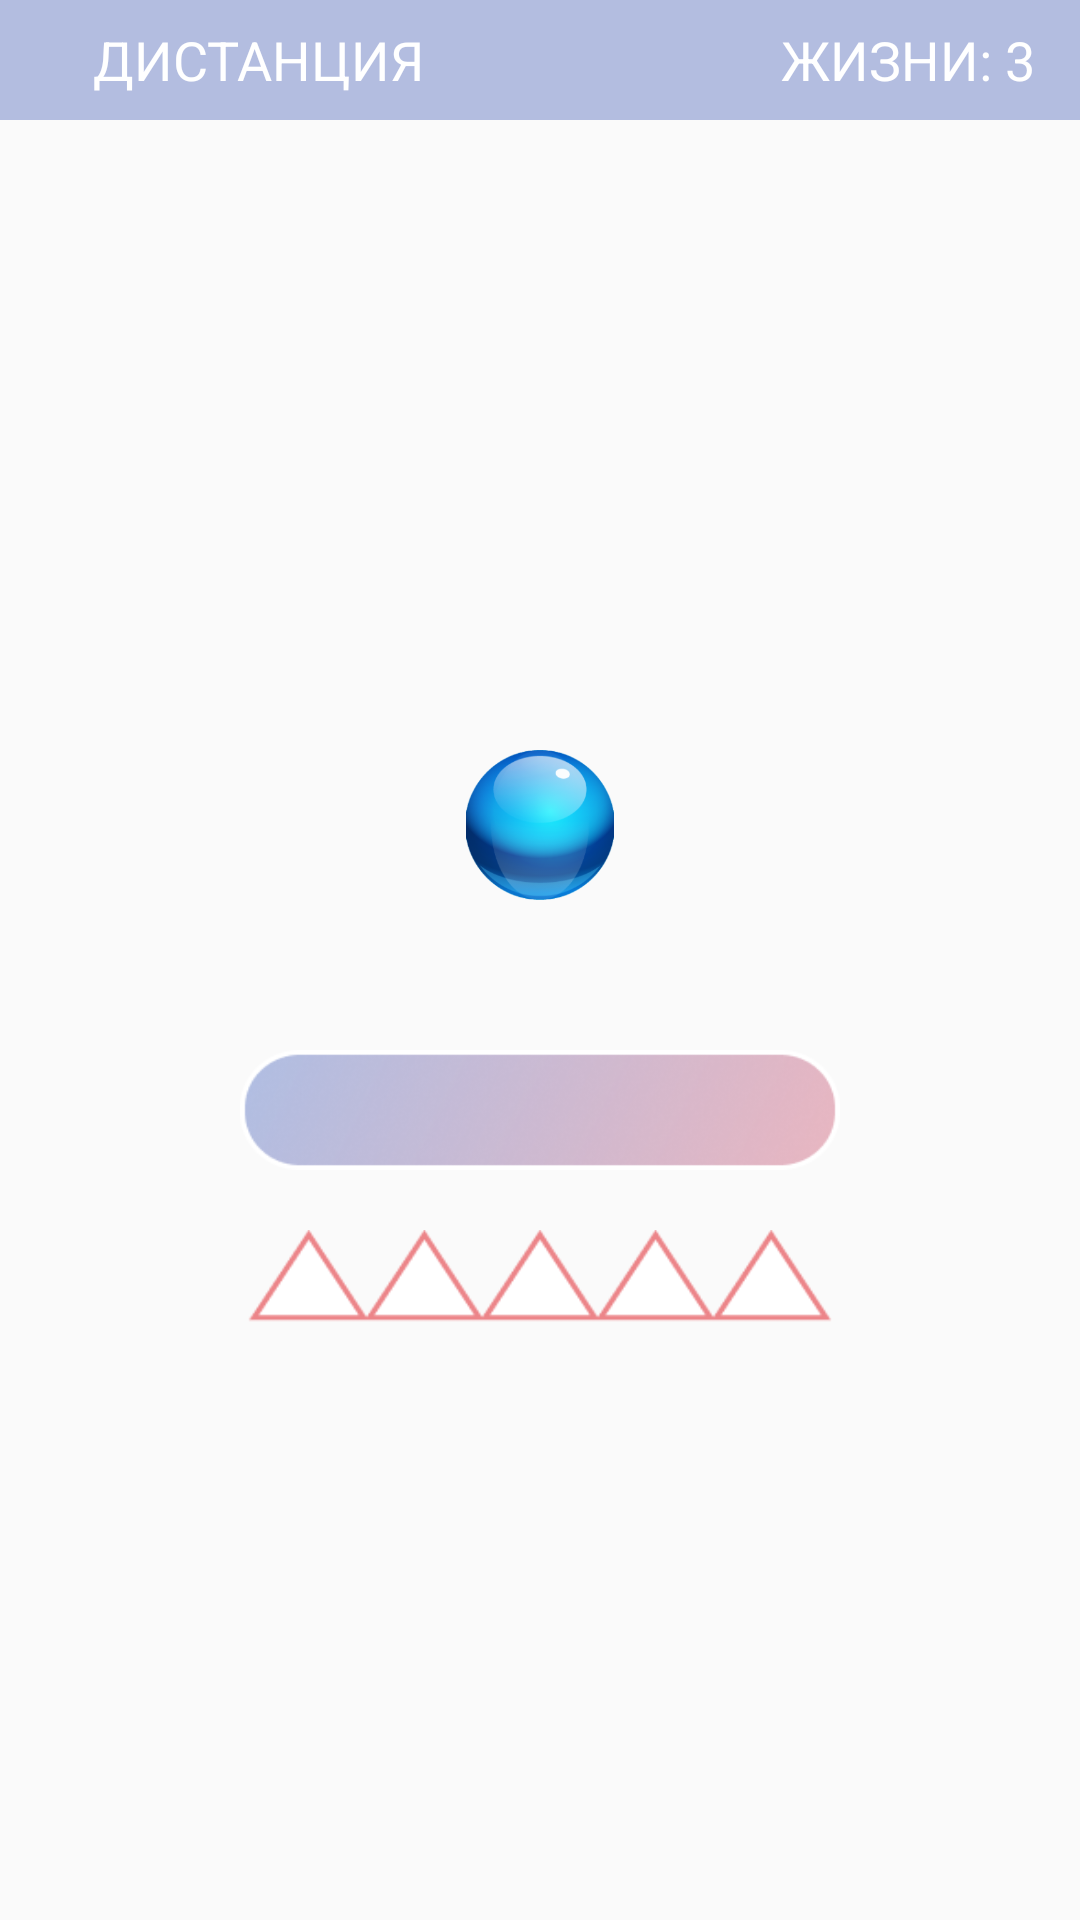

Screen size 1080px×1920px. Icon name, then its center in pixels as (x=x, y=y):
choose ball: (x=540, y=825)
